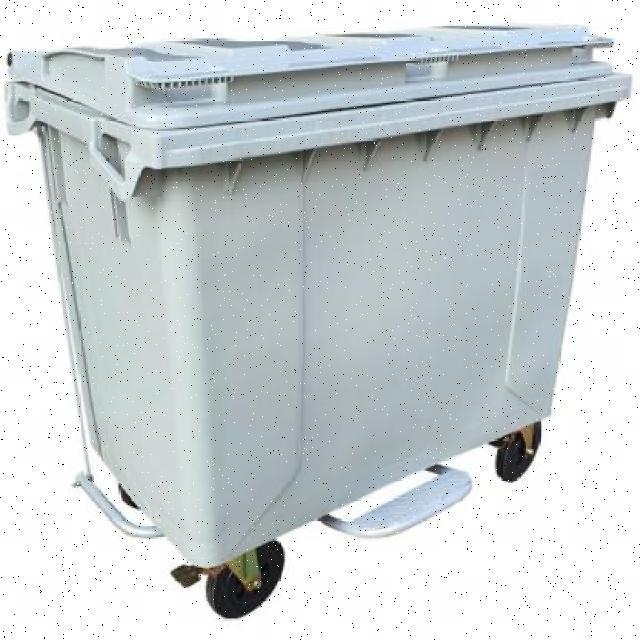garbage container: (4, 16, 640, 640)
